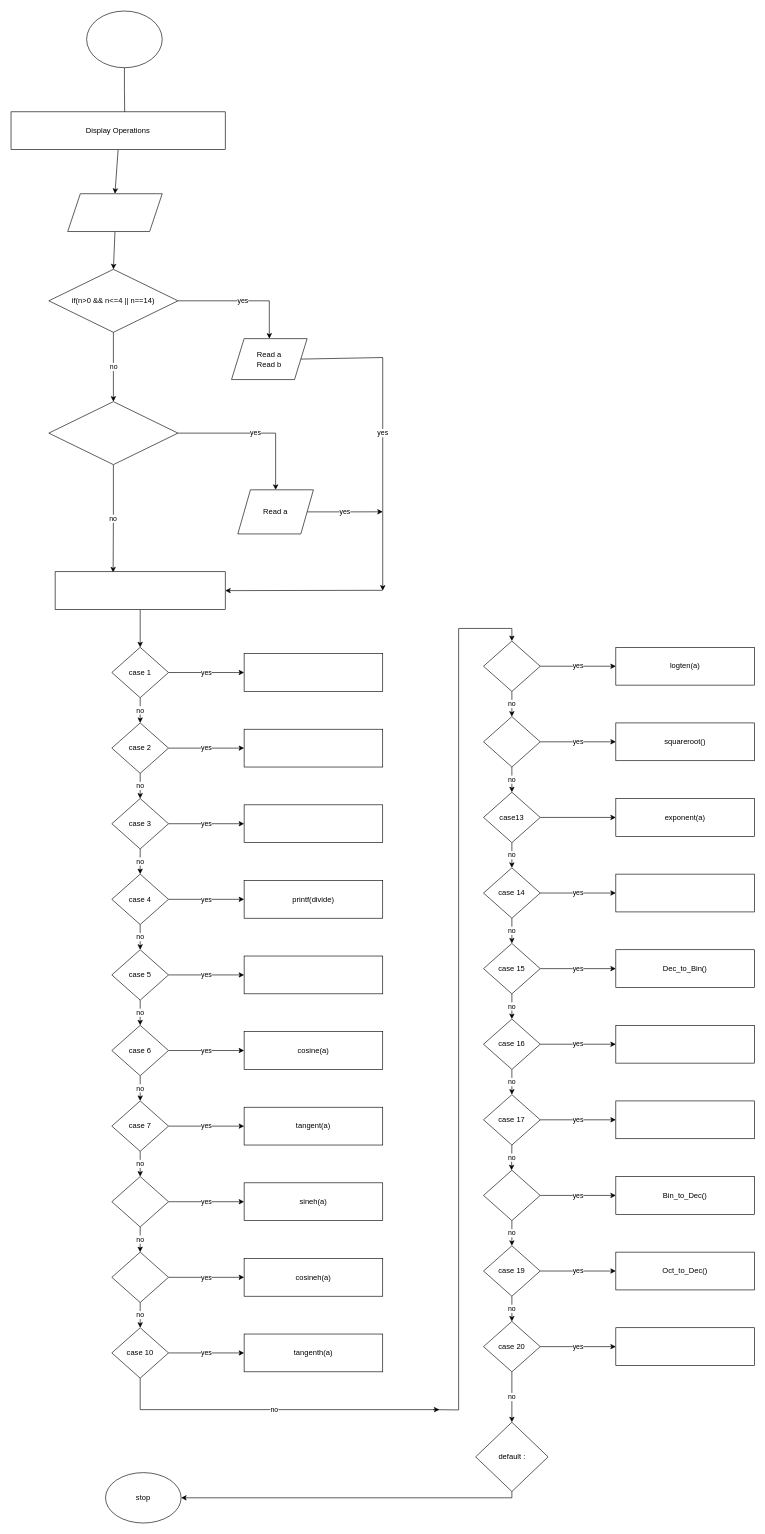
Some shapes in this 765 by 1534 pixel diagram are drawn without their labels. Here are the shapes that lost their labels. From the top down, the centre of each, then its label:
the point at 124,39: Start
the point at 114,212: Read choice
the point at 113,433: if( n>=5 && n<=13)
the point at 139,590: switch(choice)
the point at 313,672: printf(add)
the point at 511,665: case 11
the point at 313,748: printf(sub)
the point at 511,741: case 12
the point at 313,823: printf(mulltiply)
the point at 684,892: power(a,b)
the point at 313,974: sine(a)
the point at 684,1044: Dec_to_Oct()
the point at 684,1119: Dec_to_Hex()
the point at 140,1201: case 8
the point at 511,1195: case 18
the point at 140,1277: case 9
the point at 684,1346: Hex_to_Dec()
